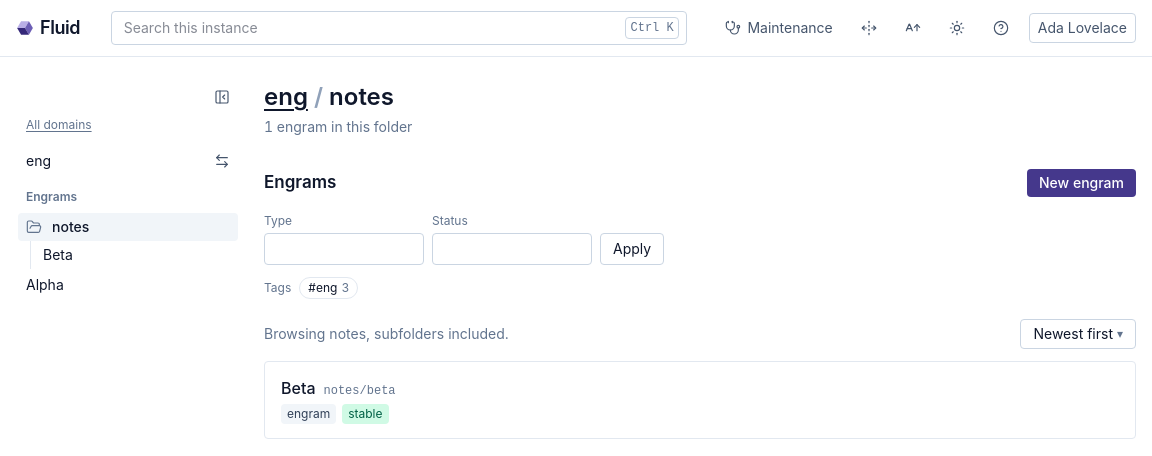
Test: the domain screen › keeps a filter across the whole domain while a folder is open
Expected: the link "Beta notes/beta engram stable" is shown, 281,378 -> 396,424
Click the button "#eng 3": {"x": 329, "y": 288} 299,277 -> 358,299
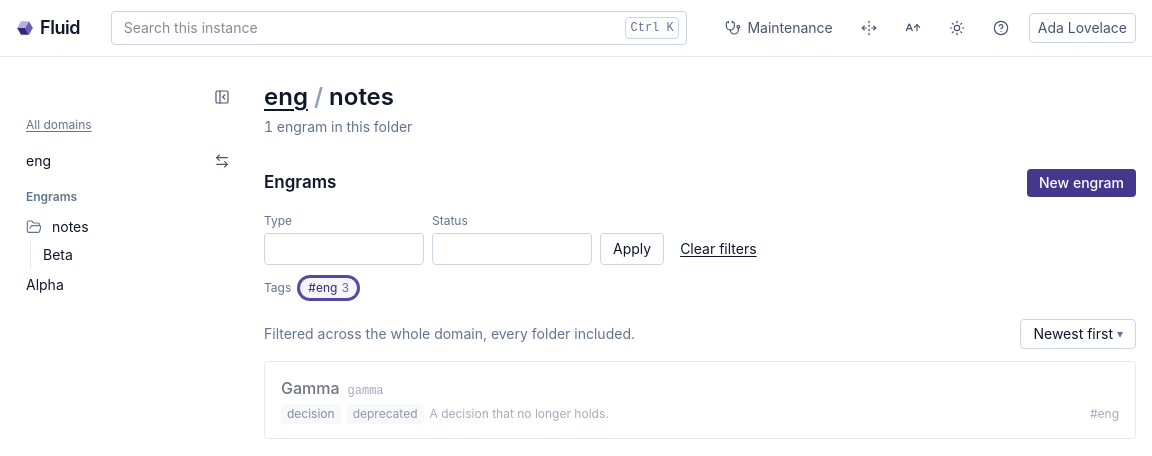
Expected: the heading "eng / notes" is shown, 264,82 -> 394,111
Expected: the link "Gamma" is shown, 269,362 -> 1131,438
Expected: the text "Filtered across the whole domain, every folder included." is shown, 264,324 -> 635,344
